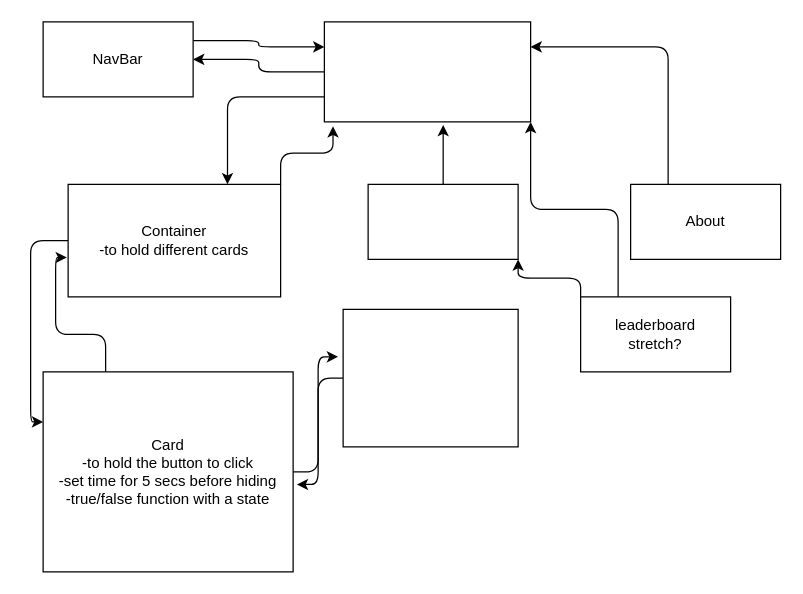
The diagram is 803 pixels wide and 594 high, and some of its shapes have lost their labels. The shapes that lost their labels are listed below. From the top down, each one's box as (x1, y1, x2, y2) in pixels, then its label:
(323, 21, 531, 122): MainPage -start button -navigation
(367, 183, 518, 259): User Profile
(342, 308, 518, 447): Logger -logs button clicks if true or false
